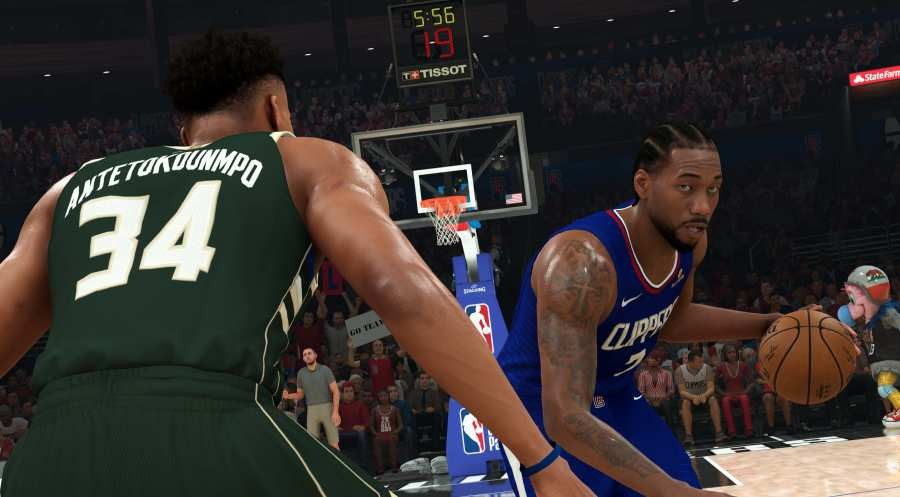ball: (759, 309, 857, 405)
